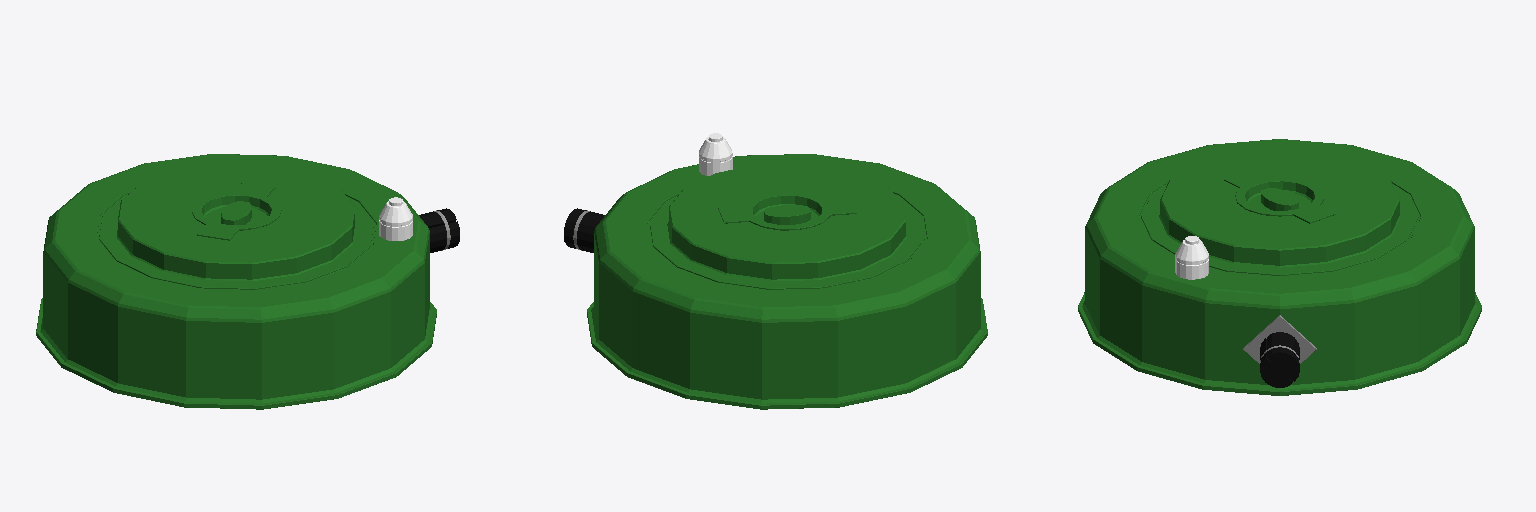
File: LandMine.obj
3 renders of one model, left to right at view 1: azimuth 30°, elevation 25°; view 2: azimuth 150°, elevation 25°; view 3: azimuth 270°, elevation 25°, orthographic.
Parts seen in each view (by area): view 1: Mine; view 2: Mine; view 3: Mine.
Part boxes in pixels (left/top/right/bottom): Mine: left=36, top=154, right=459, bottom=409; Mine: left=564, top=133, right=987, bottom=409; Mine: left=1078, top=139, right=1481, bottom=395.
Bounding box in the file's own units: 2.3 × 0.7285 × 2.08.